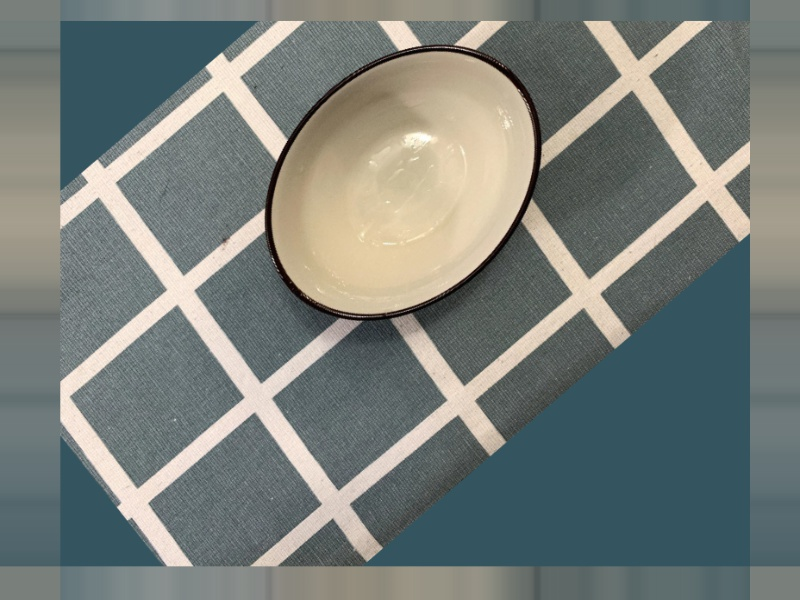bowl_small: (201, 0, 605, 389)
